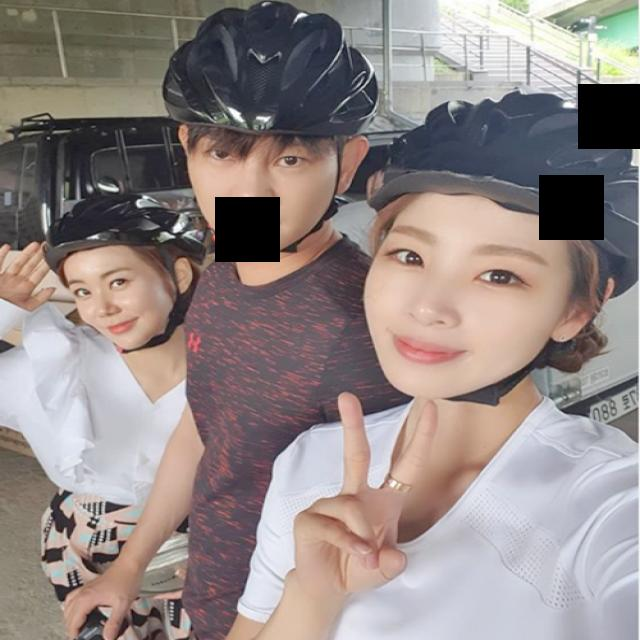Helmet: (359, 89, 640, 402), (162, 2, 382, 257), (44, 188, 211, 353)
